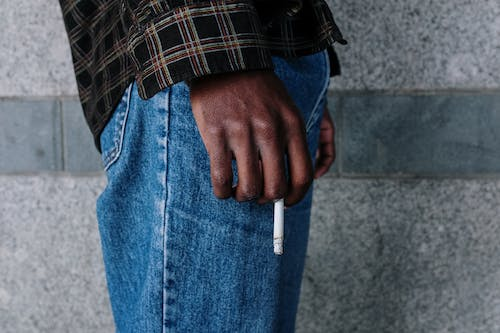cigarette: (271, 196, 285, 256)
